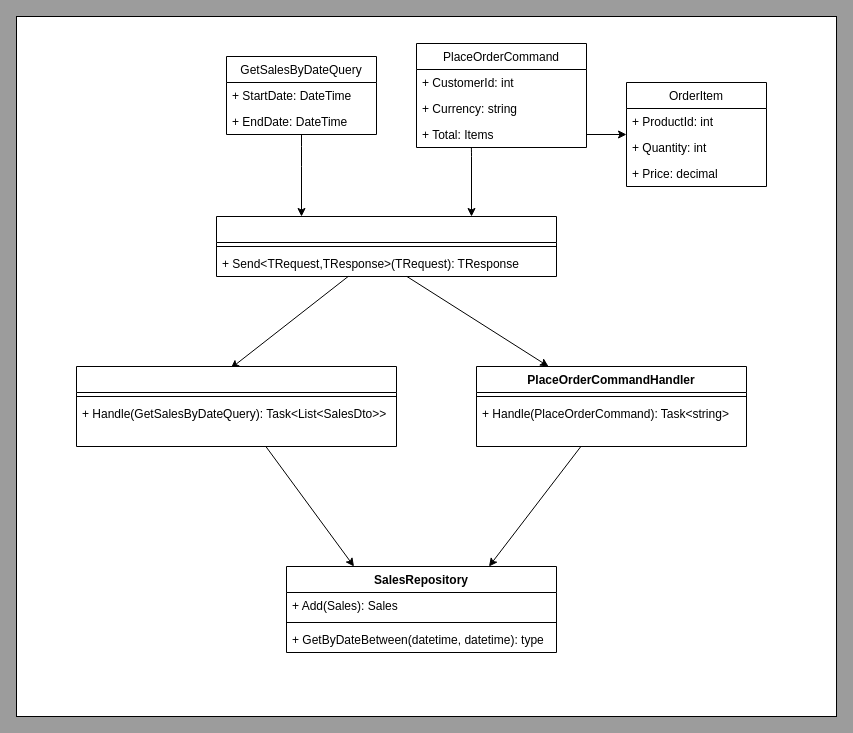
Some shapes in this 853 by 733 pixel diagram are drawn without their labels. The box of each missing label's shape, as (x1, y1, x2, y2) in pixels:
GetSalesByDateQueryHandler: (76, 366, 396, 446)
Mediator: (216, 216, 556, 276)
